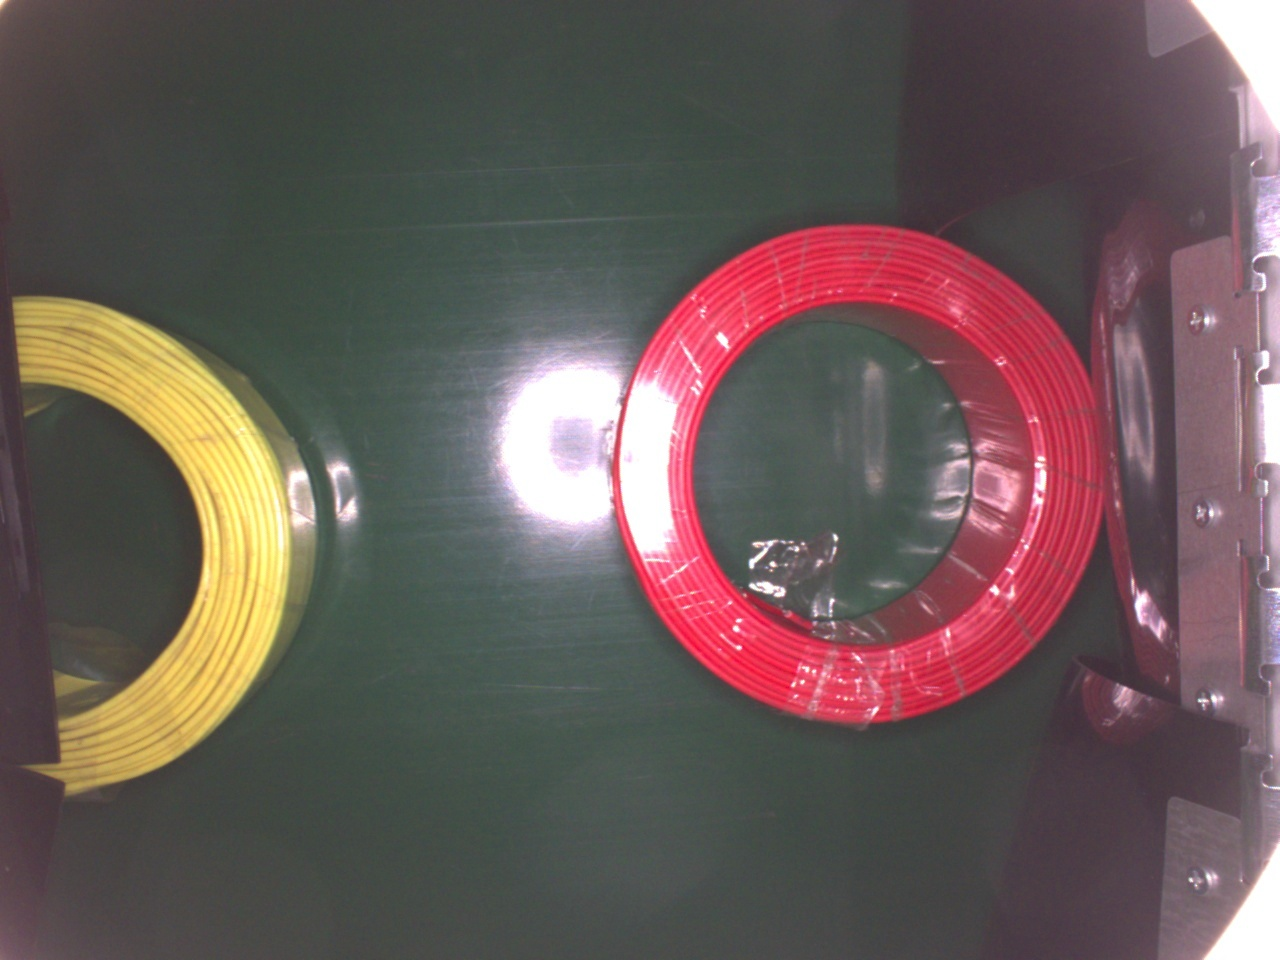red: (609, 224, 1111, 723)
yellow: (13, 288, 322, 799)
